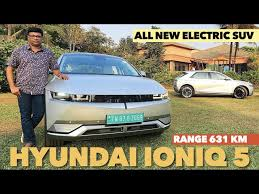Honda Ioniq: (43, 51, 172, 150)
